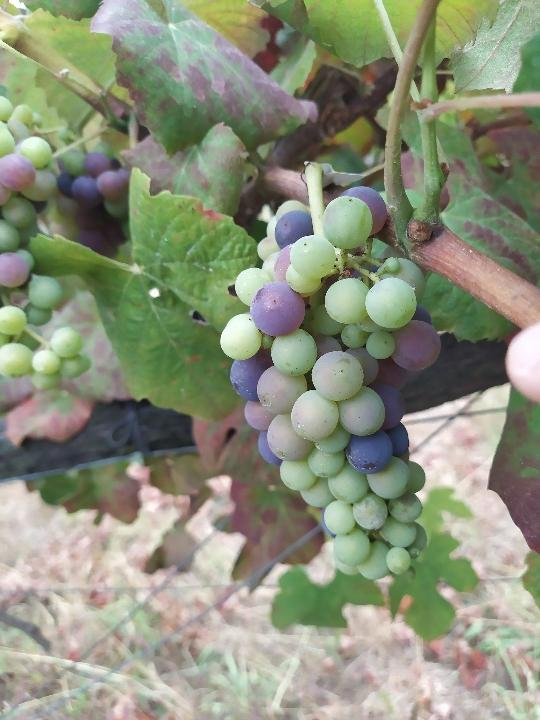grape: (217, 184, 444, 586)
